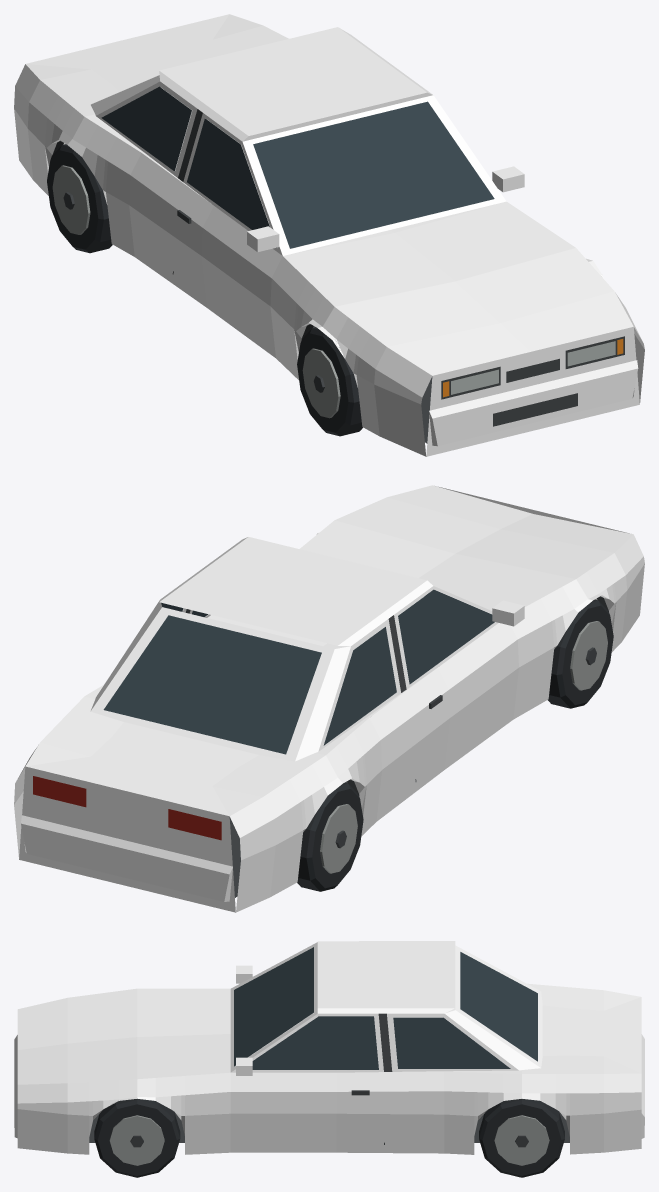
Rendered from hayase_hagane.glb.
3 renders of one model, top to bottom at view 1: azimuth 30°, elevation 25°; view 2: azimuth 150°, elevation 25°; view 3: azimuth 270°, elevation 25°, orthographic. The views are drawn at different scales.
Parts seen in each view (by area): view 1: hayase_hagane; view 2: hayase_hagane; view 3: hayase_hagane.
Boxes of the visible parts, x1,y1,x2,y2 form: hayase_hagane: (14, 14, 644, 456); hayase_hagane: (14, 485, 644, 912); hayase_hagane: (14, 941, 644, 1177).
Size of the model in its own units: 1.78 by 1.24 by 4.59.
8 materials, 1 textured.
